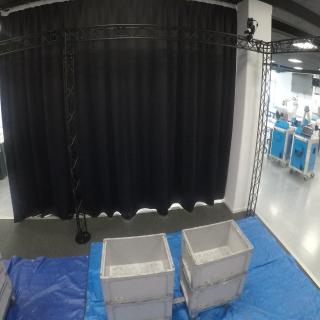Box4G: (94, 232, 177, 308), (179, 217, 256, 294), (180, 262, 254, 316), (105, 294, 175, 320)
